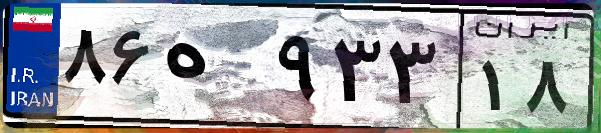1: (475, 38, 525, 113)
3: (385, 28, 445, 110), (330, 28, 385, 110)
6: (110, 28, 158, 98)
8: (57, 26, 110, 100), (525, 38, 570, 115)
9: (270, 28, 330, 110)
ه: (158, 20, 270, 120)
